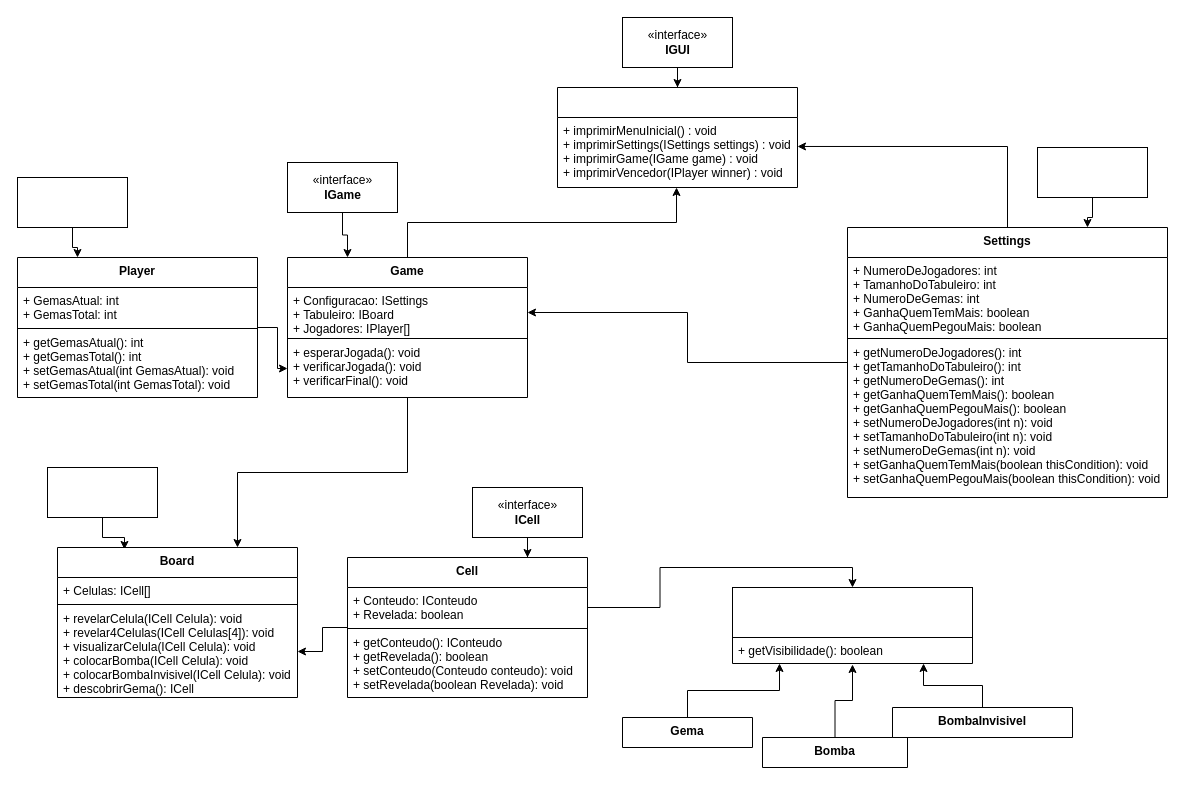
The diagram is 1185 pixels wide and 785 high, and some of its shapes have lost their labels. The box of each missing label's shape, as (x1, y1, x2, y2) in pixels:
GUI: (556, 86, 798, 188)
«interface» IBoard: (46, 466, 158, 518)
«interface» IConteudo: (732, 586, 972, 638)
«interface» IPlayer: (16, 176, 128, 228)
«interface» ISettings: (1036, 146, 1148, 198)
